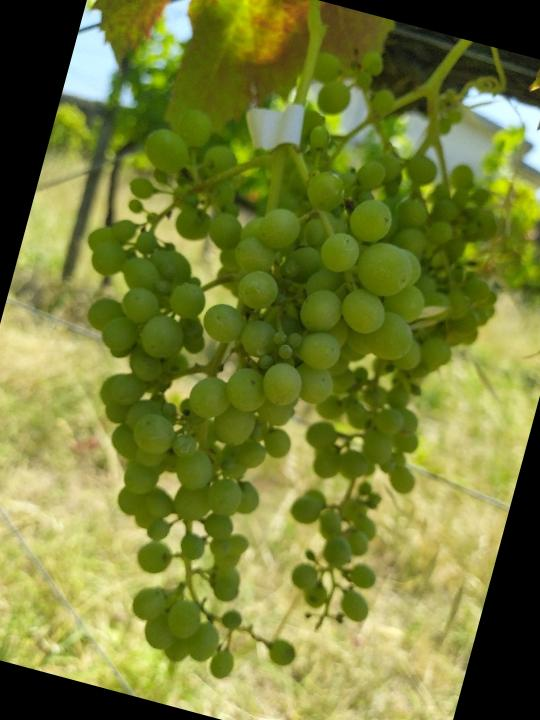grape: (0, 65, 464, 707)
